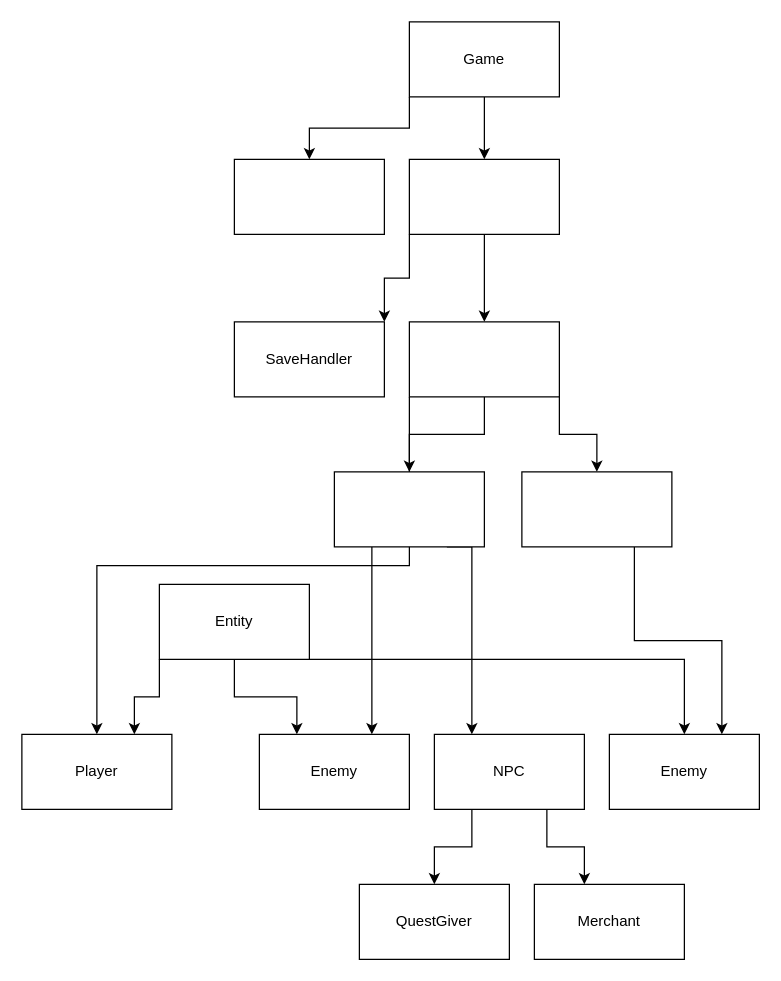
Image size: 781x981. Some labels were removed from this diagram. The shapes that lost their labels are listed below. From the top down, each one's centre as x and y in pixels, then its label:
At (308,196): "MainMenu".
At (483,196): "GameHandler".
At (483,359): "LevelHandler".
At (408,509): "World".
At (596,509): "Dungeon".
